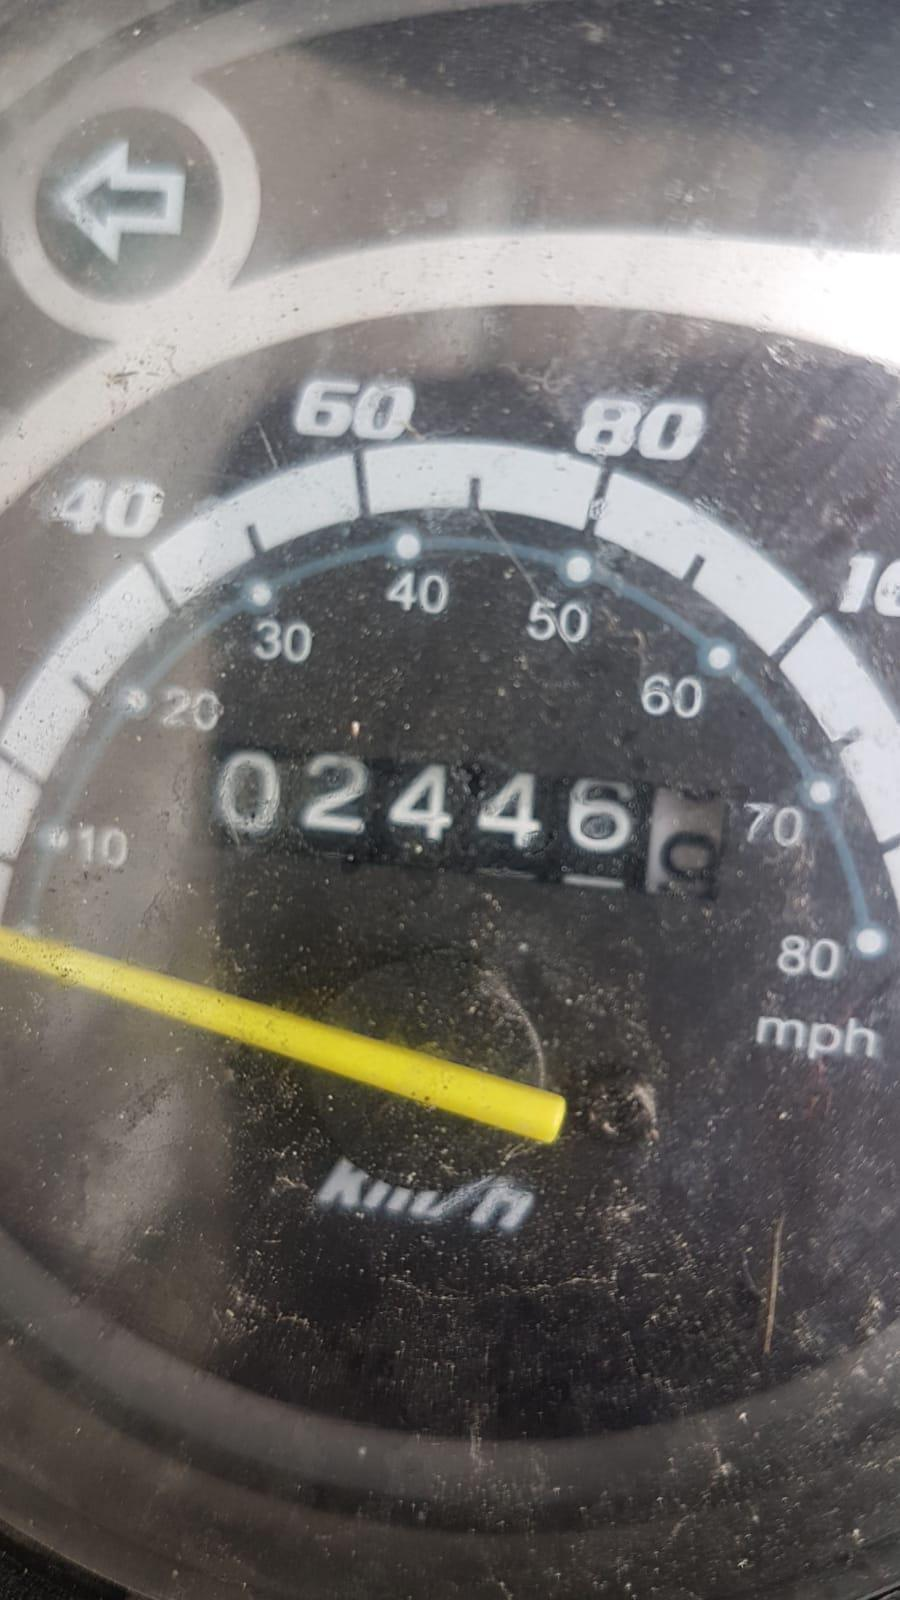0: (213, 746, 292, 847)
2: (303, 743, 373, 854)
4: (478, 758, 547, 862), (388, 757, 452, 847)
6: (562, 762, 638, 860)
9: (658, 819, 729, 907)
odometer: (187, 727, 740, 911)
